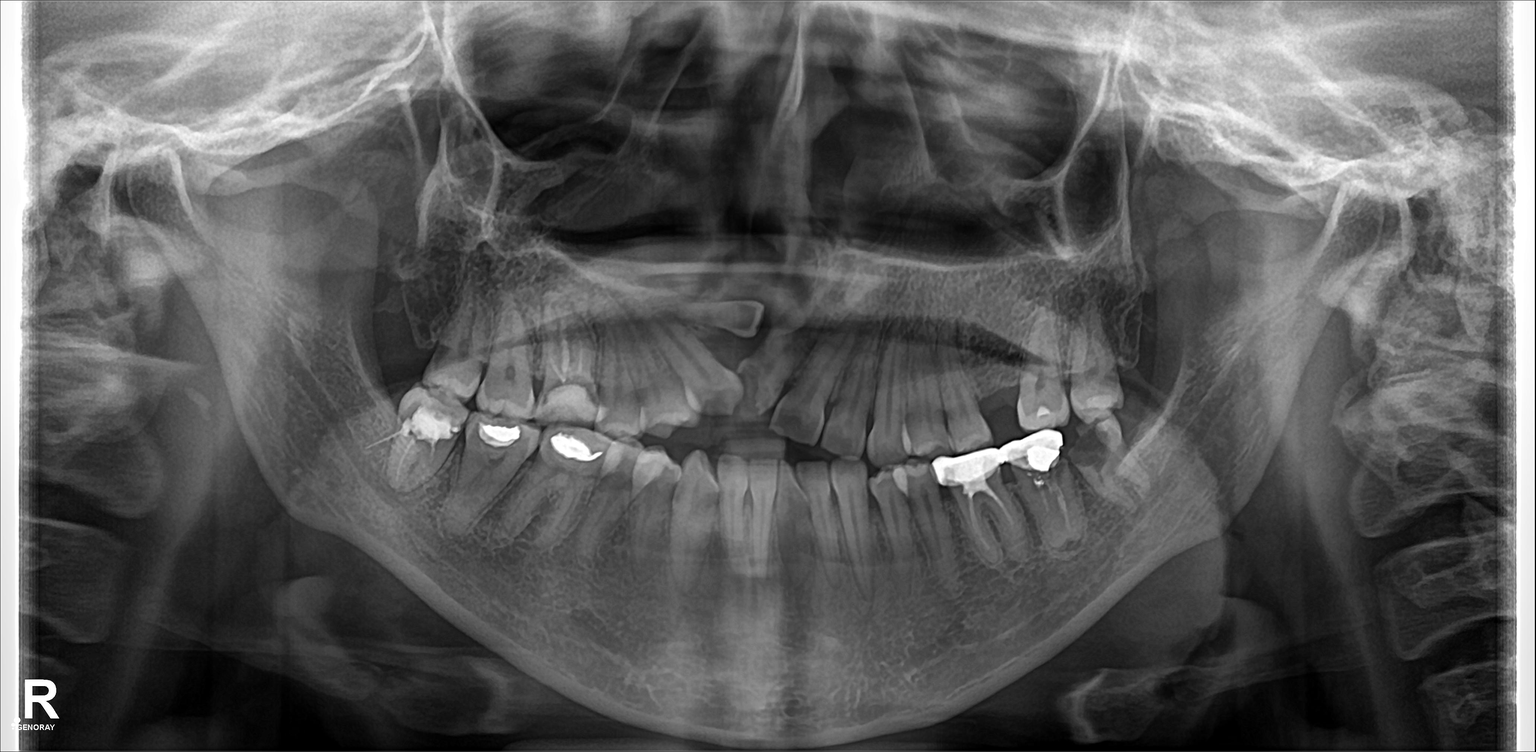Dental Caries: (1061, 428, 1116, 468)
Endodontically Treated Tooth: (956, 452, 1013, 573), (399, 391, 454, 500), (544, 307, 600, 414), (1019, 439, 1068, 551)
Missing Tooth: (380, 259, 441, 375), (976, 342, 1018, 435)
